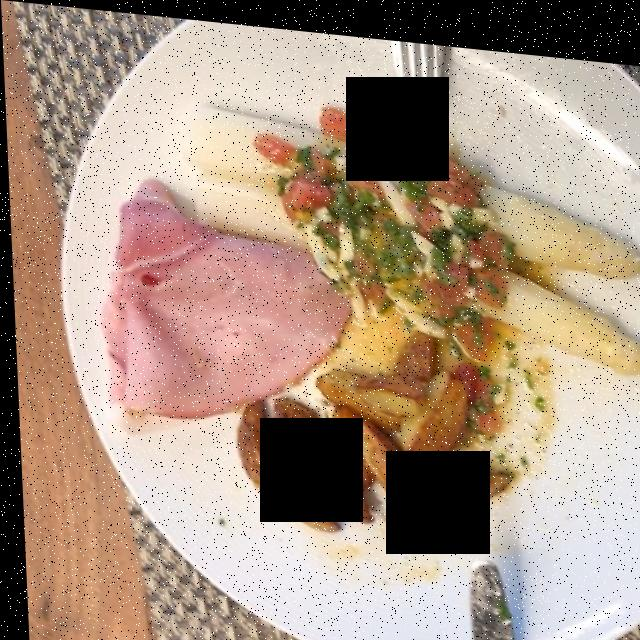baked-potato: (241, 335, 506, 525)
egg: (306, 171, 473, 336)
ham: (106, 186, 355, 424)
tomato-raw: (256, 107, 511, 426)
white-asparagus: (185, 106, 640, 364)
